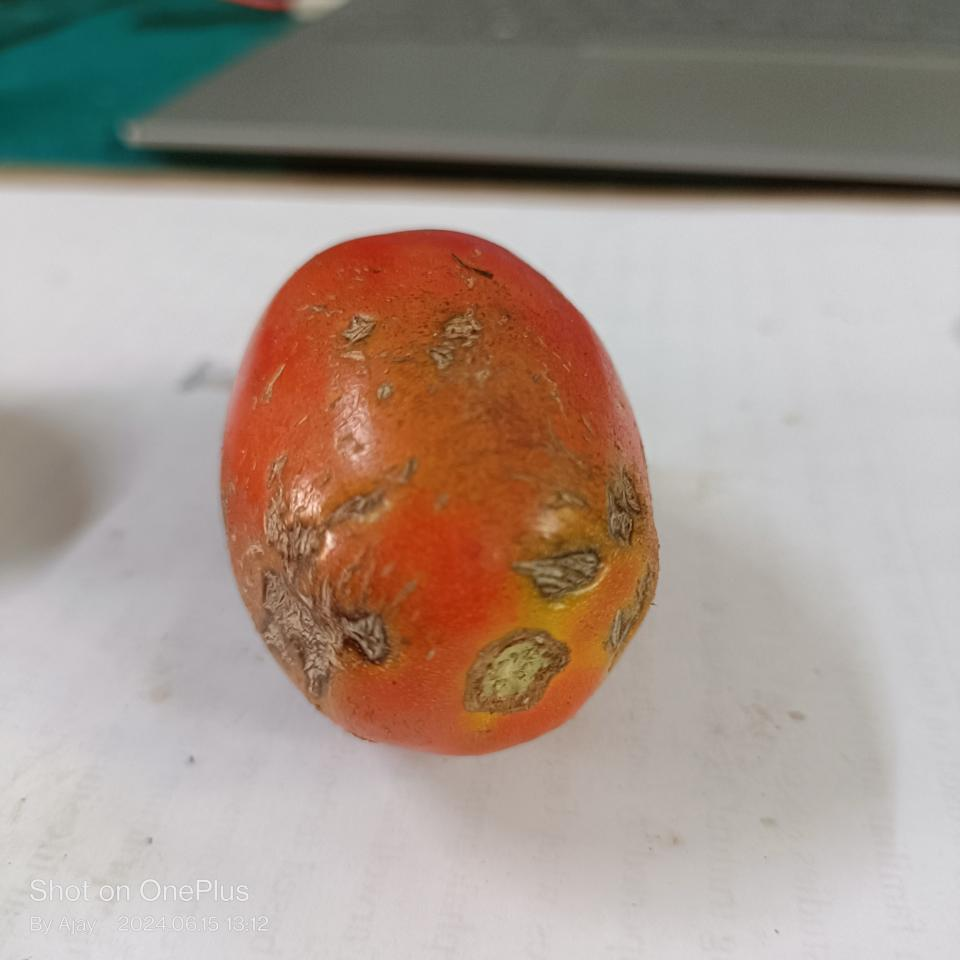Bacterial_Spot: (223, 467, 408, 695), (519, 535, 612, 610), (584, 464, 653, 536), (320, 300, 395, 357), (428, 310, 486, 372)
